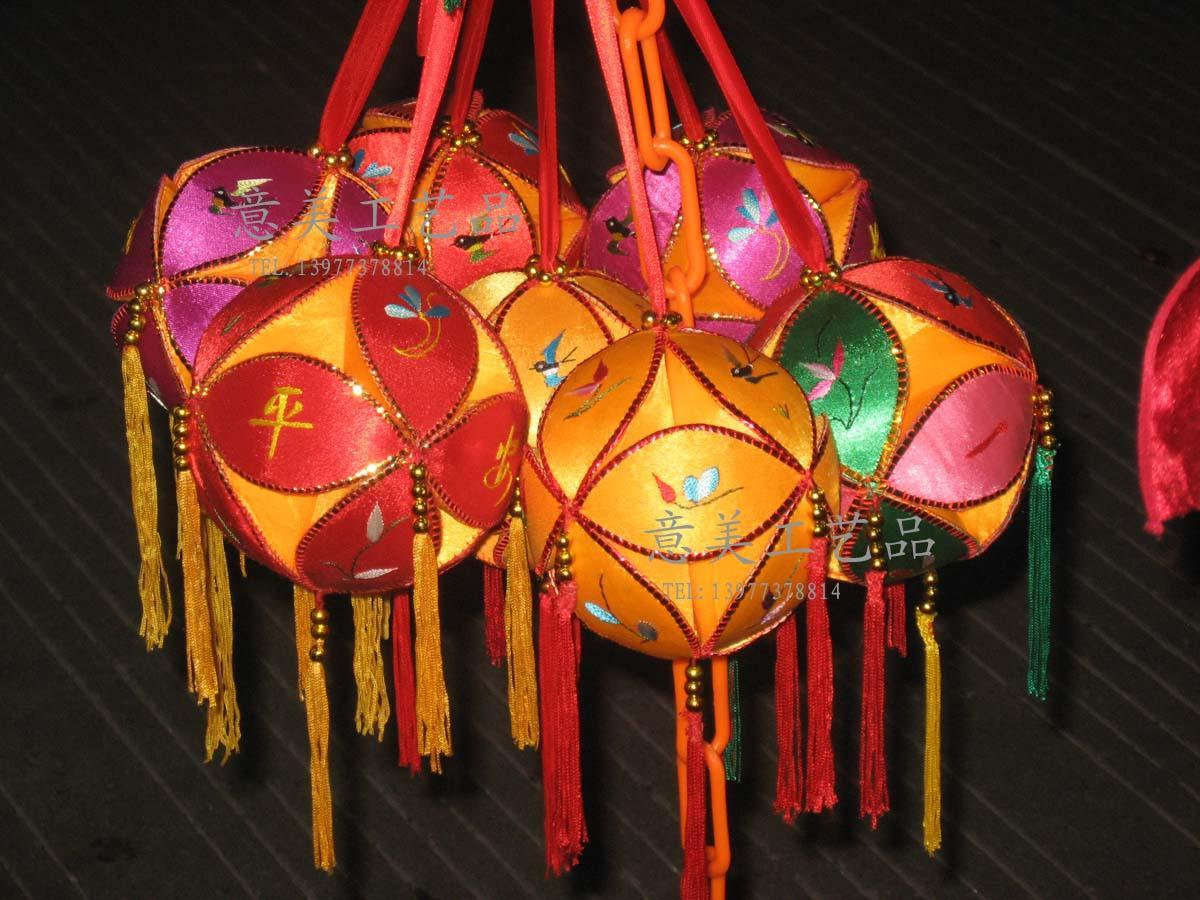xiuqiu: (192, 259, 529, 590), (520, 328, 842, 660)
